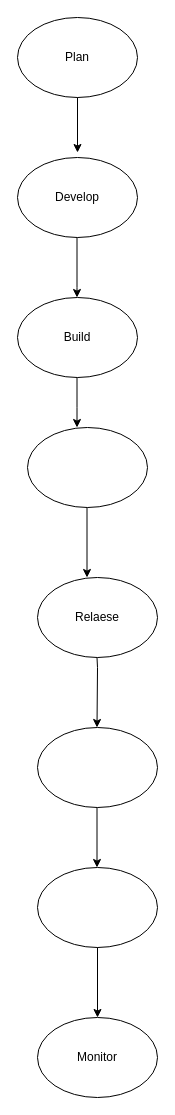
The diagram is 175 pixels wide and 1115 high, and some of its shapes have lost their labels. Here are the shapes that lost their labels. From the top down, the centre of each, then its label:
the point at 87,467: Test
the point at 97,767: Deploy
the point at 97,907: Operate
